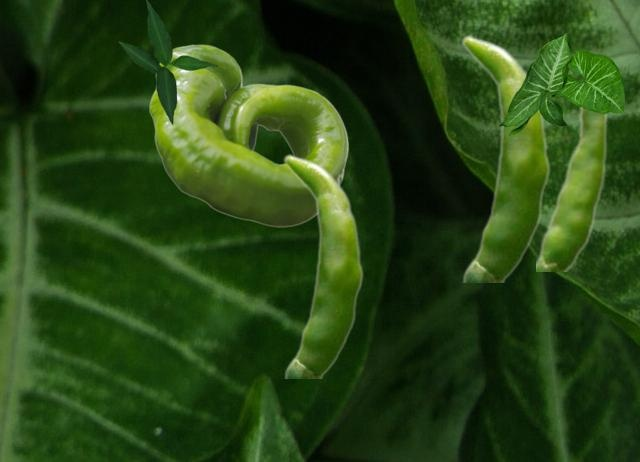green_chili: (149, 44, 347, 226), (460, 34, 550, 281), (282, 153, 363, 377), (536, 107, 607, 270)
